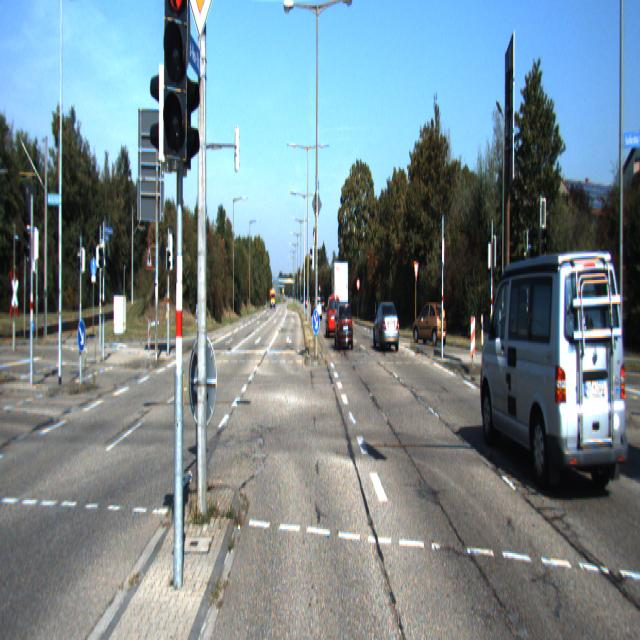Car: (412, 299, 447, 346), (372, 300, 400, 352), (335, 302, 354, 351), (325, 294, 341, 340)
DontCare: (298, 281, 322, 325), (268, 283, 276, 311)
Truck: (331, 259, 348, 321)
Van: (478, 235, 630, 506)
